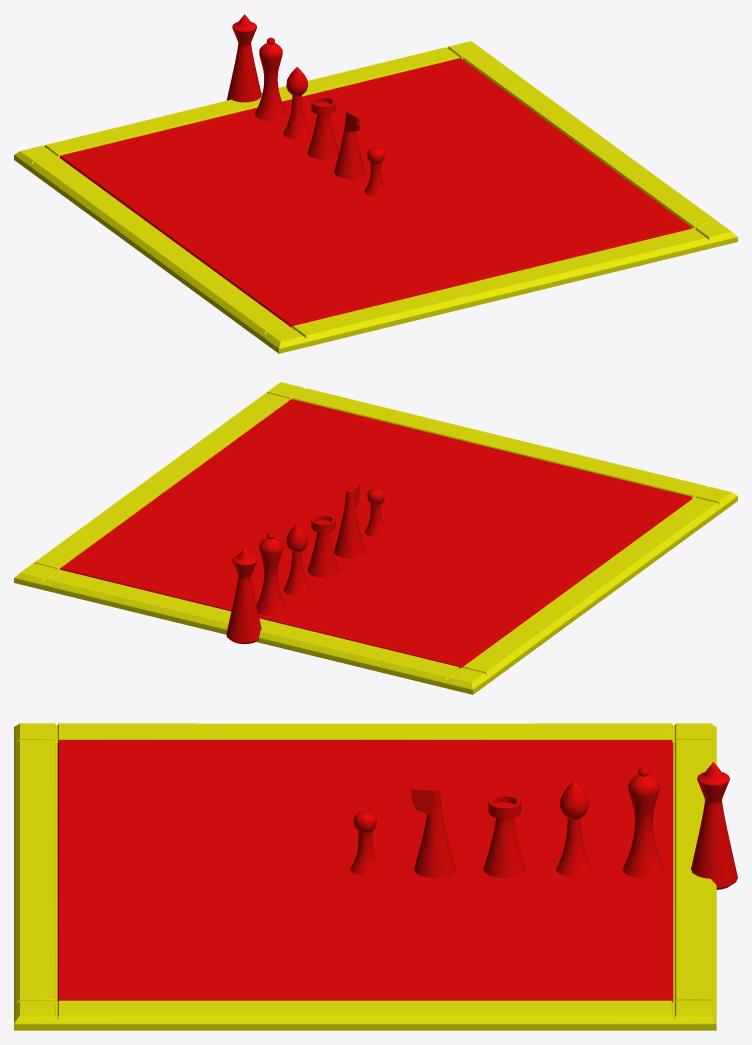
Rendered from chess_grp.fbx.
3 views of the same model, one above another, from view 1: azimuth 30°, elevation 25°; view 2: azimuth 150°, elevation 25°; view 3: azimuth 270°, elevation 25° (orthographic). The views are drawn at different scales.
Parts seen in each view (by area): view 1: chessboard_1, chess_king_1, chess_queen_1, chess_tower_1, chess_knight_1, chess_bishop_1, chess_pawn_1; view 2: chessboard_1, chess_king_1, chess_queen_1, chess_tower_1, chess_knight_1, chess_bishop_1, chess_pawn_1; view 3: chessboard_1, chess_king_1, chess_queen_1, chess_knight_1, chess_tower_1, chess_bishop_1, chess_pawn_1.
Part boxes in pixels (x1,y1,x2,y2): chessboard_1: (14, 41, 737, 353); chess_king_1: (226, 14, 261, 102); chess_queen_1: (255, 37, 286, 121); chess_tower_1: (307, 96, 339, 159); chess_knight_1: (334, 109, 365, 178); chess_bishop_1: (283, 67, 310, 139); chess_pawn_1: (364, 147, 387, 196); chessboard_1: (14, 382, 737, 694); chess_king_1: (226, 547, 261, 644); chess_queen_1: (256, 532, 286, 615); chess_tower_1: (307, 514, 339, 577); chess_knight_1: (334, 483, 365, 558); chess_bishop_1: (283, 523, 310, 595); chess_pawn_1: (364, 488, 387, 537); chessboard_1: (14, 723, 716, 1030); chess_king_1: (691, 762, 737, 889); chess_queen_1: (622, 767, 664, 878); chess_knight_1: (411, 786, 455, 878); chess_tower_1: (483, 794, 525, 878); chess_bishop_1: (556, 781, 592, 876); chess_pawn_1: (350, 811, 380, 875).
Bounding box in the file's own units: 50.46 × 10.03 × 51.99.
